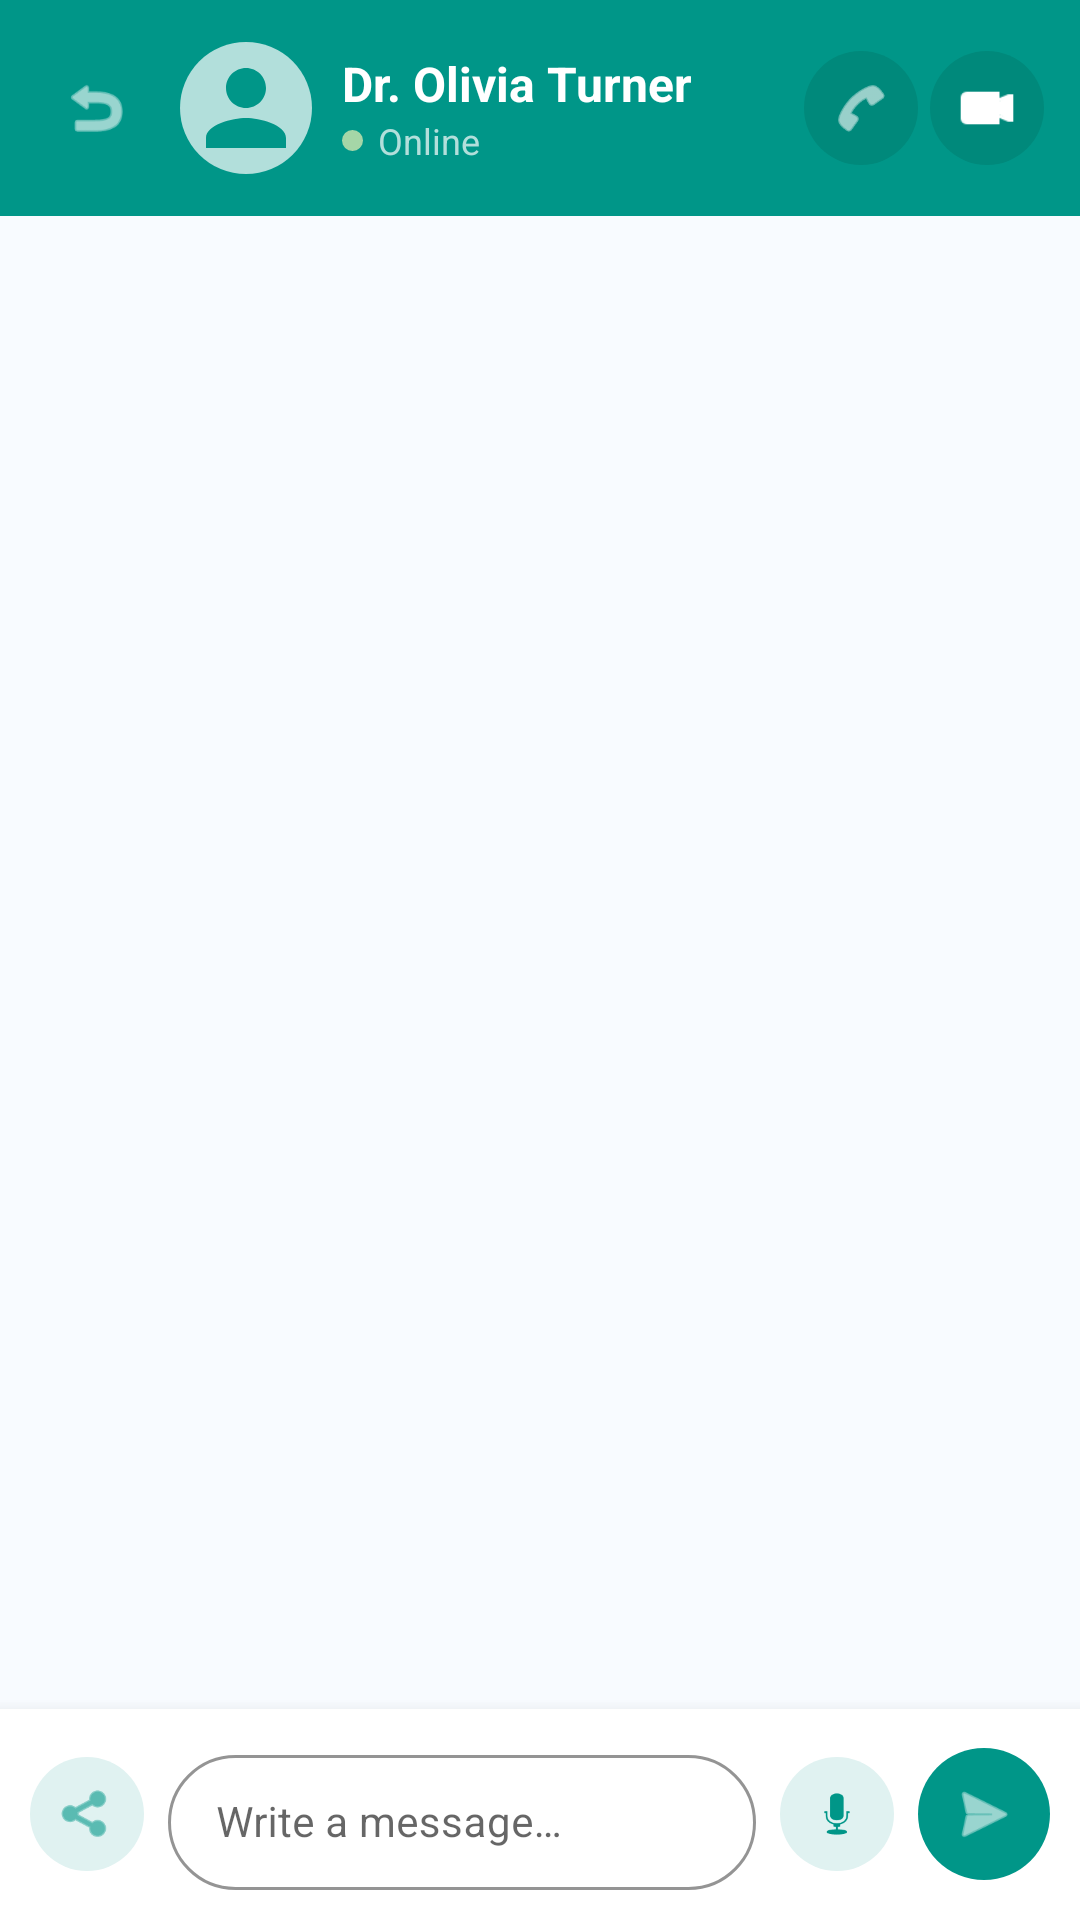

Named icons in this screenshot (1080×1920) and their bounding boxes, detection(x1, y1, x2, y2):
call: detection(804, 51, 918, 165)
presence video online: detection(960, 91, 1014, 125)
revert: detection(71, 85, 123, 132)
send: detection(918, 1748, 1050, 1880)
share: detection(30, 1757, 144, 1871)
speak now: detection(780, 1757, 894, 1871)
